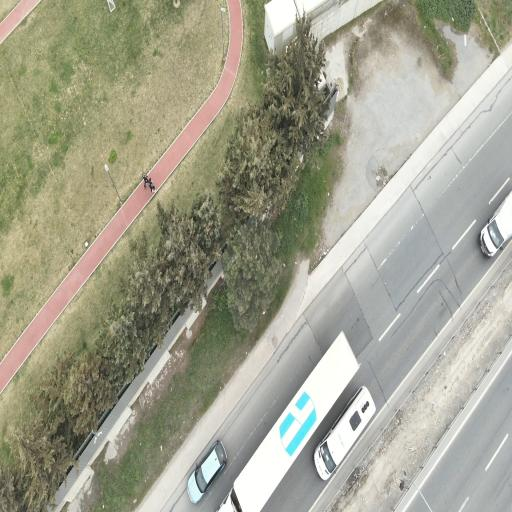car: (314, 386, 376, 480), (187, 441, 226, 503), (480, 192, 512, 256)
person: (148, 178, 155, 193), (143, 173, 149, 188)
truck: (219, 332, 358, 511)
